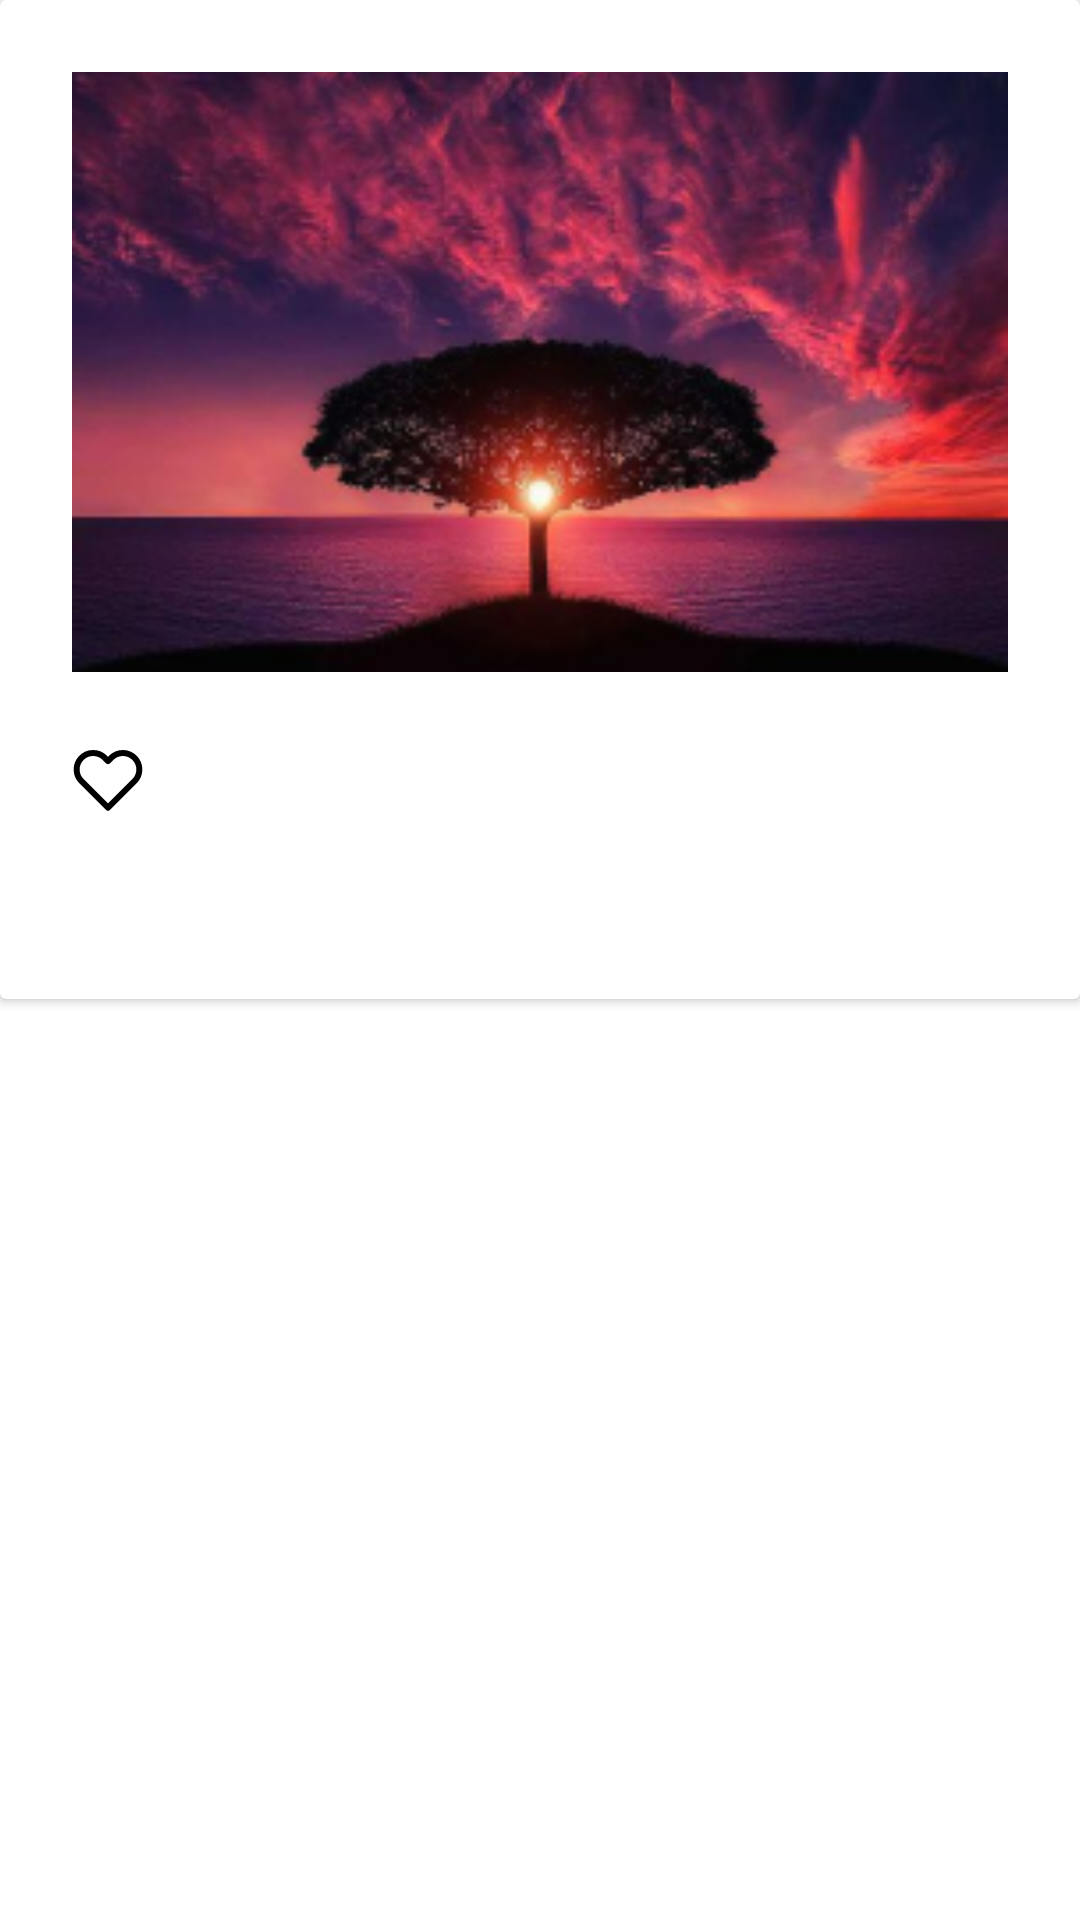

Icons on this 1080 x 1920 Android screen, each with the point to tap as (x=x, y=y):
heart: (x=108, y=780)
